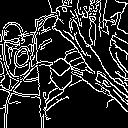cube: (48, 55, 80, 92)
